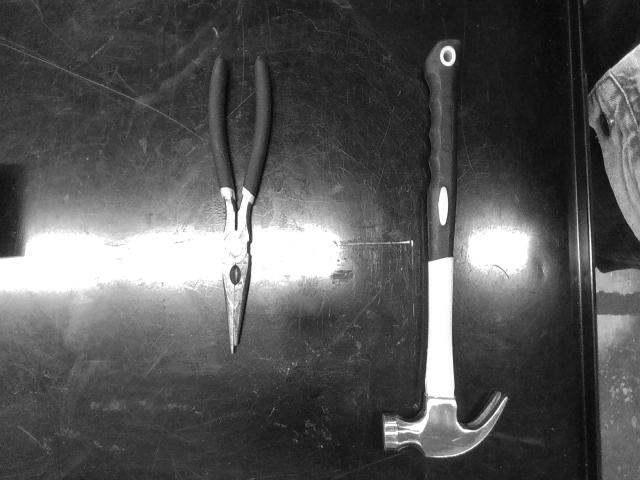Hammer: (382, 40, 508, 458)
Needle-nose pliers: (209, 57, 271, 353)
